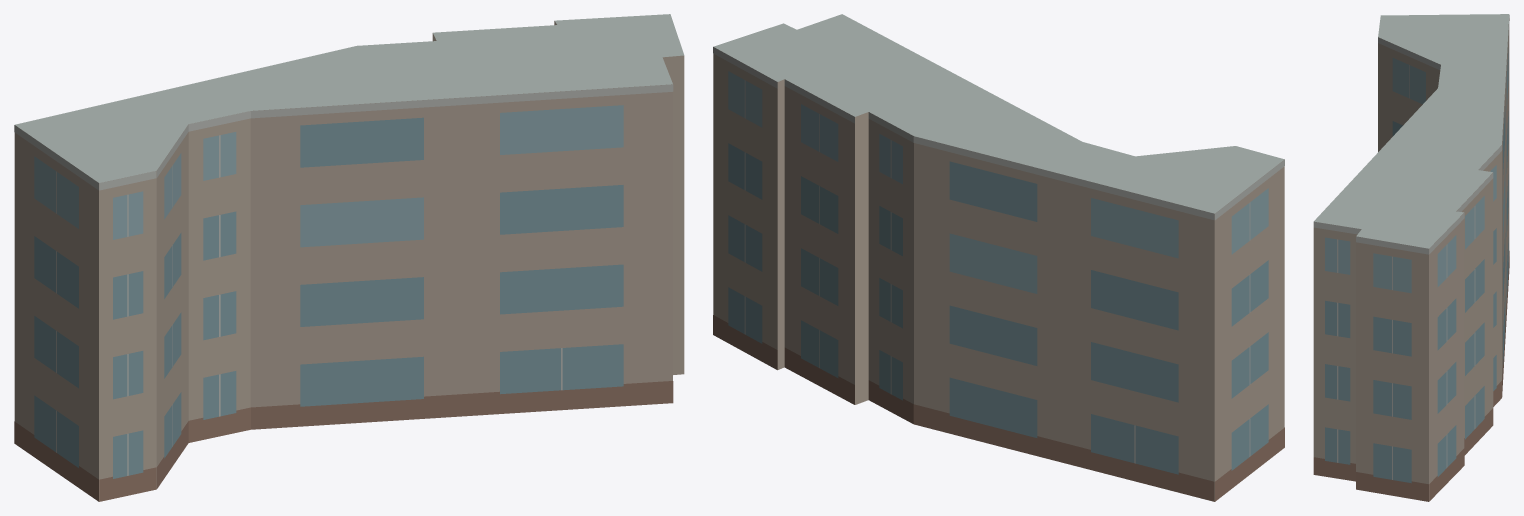
The model's file is survey-upis-32460460.glb.
3 renders of one model, left to right at view 1: azimuth 30°, elevation 25°; view 2: azimuth 150°, elevation 25°; view 3: azimuth 270°, elevation 25°, orthographic. The views are drawn at different scales.
Parts seen in each view (by area): view 1: survey-upis-32460460.tmp; view 2: survey-upis-32460460.tmp; view 3: survey-upis-32460460.tmp.
Part boxes in pixels (left/top/right/bottom): survey-upis-32460460.tmp: left=14, top=14, right=684, bottom=501; survey-upis-32460460.tmp: left=713, top=14, right=1284, bottom=501; survey-upis-32460460.tmp: left=1313, top=14, right=1509, bottom=501.
Bounding box in the file's own units: 20.68 × 10.4 × 7.3.
